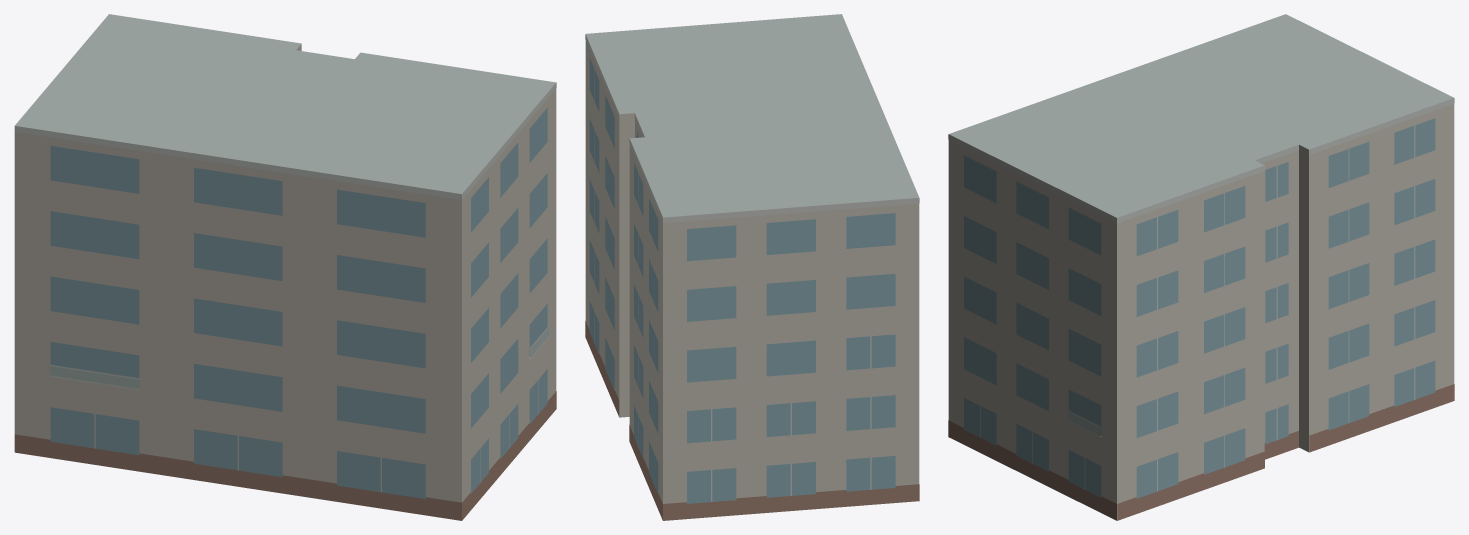
The model's file is survey-upis-32937995.glb.
3 renders of one model, left to right at view 1: azimuth 30°, elevation 25°; view 2: azimuth 150°, elevation 25°; view 3: azimuth 270°, elevation 25°, orthographic. The views are drawn at different scales.
Visible parts, largest first — view 1: survey-upis-32937995.tmp; view 2: survey-upis-32937995.tmp; view 3: survey-upis-32937995.tmp.
Boxes of the visible parts, <box> form: survey-upis-32937995.tmp: <box>14,14,556,520</box>; survey-upis-32937995.tmp: <box>585,14,919,520</box>; survey-upis-32937995.tmp: <box>948,14,1454,520</box>.
Bounding box in the file's own units: 19.04 × 13.18 × 19.96.
